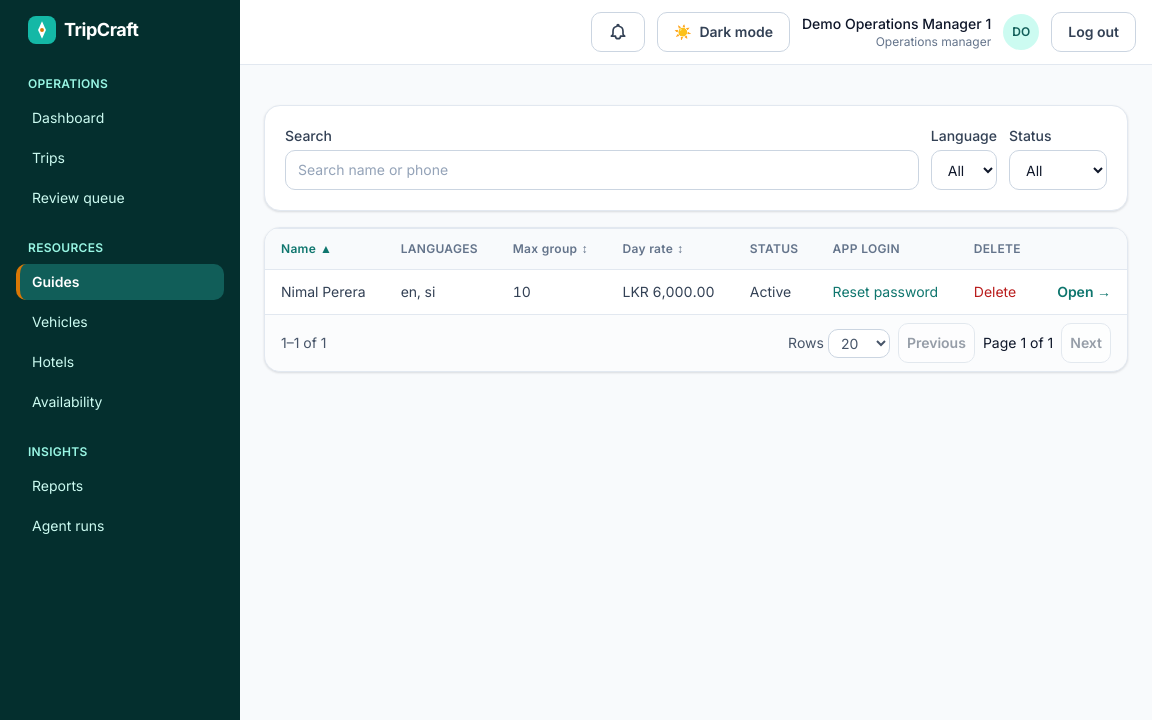
Test: GuidesPage › edits a guide without any login fields (no userId is sent)
Click the button with aria-label "Open Nimal Perera" at (1084,292), box [1057,282,1111,302]
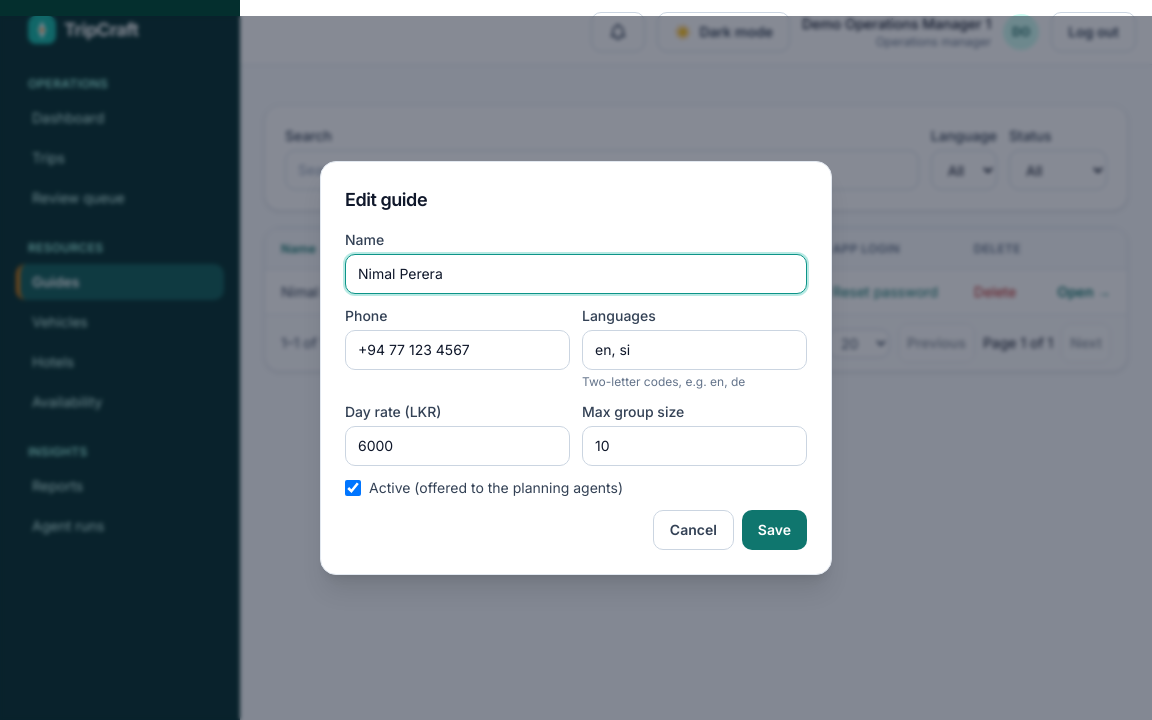
Click the button "Save" at (774,530), box [742,510,807,550]
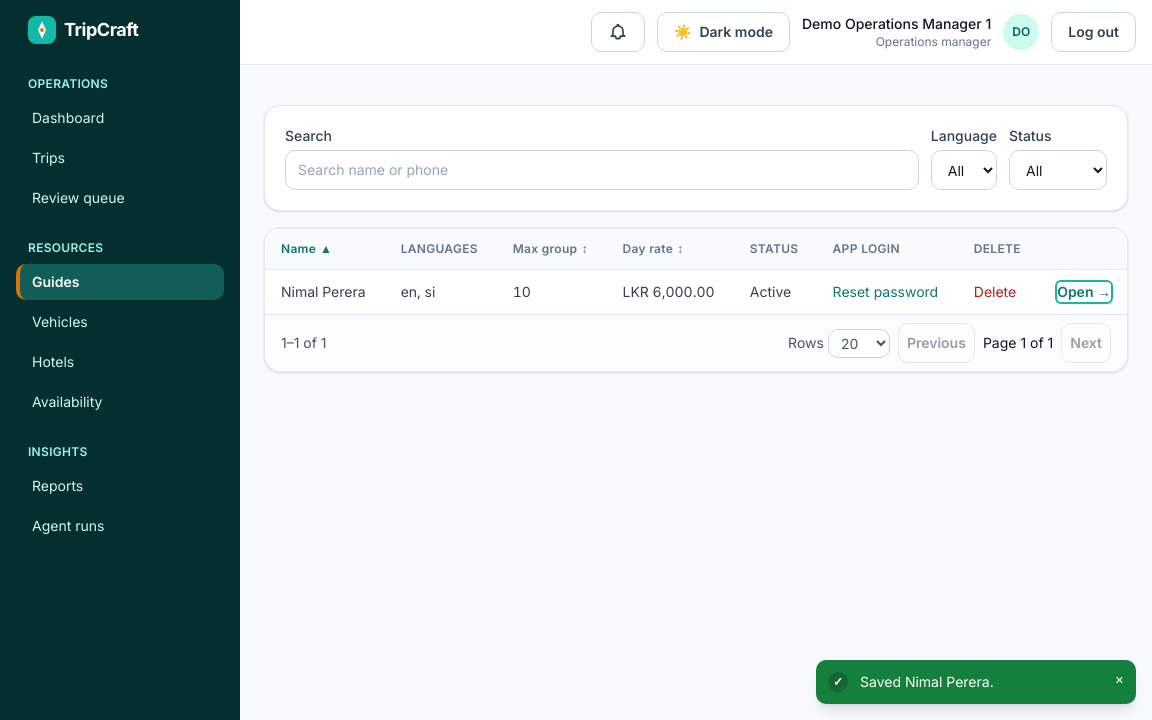
Check: the text "Saved Nimal Perera." is shown, box [860,673,994,690]
